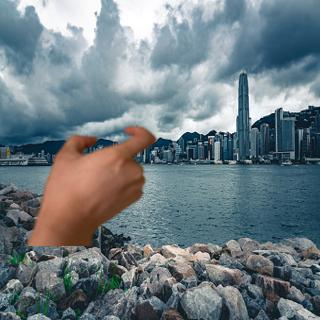HATE: (30, 121, 160, 238)
